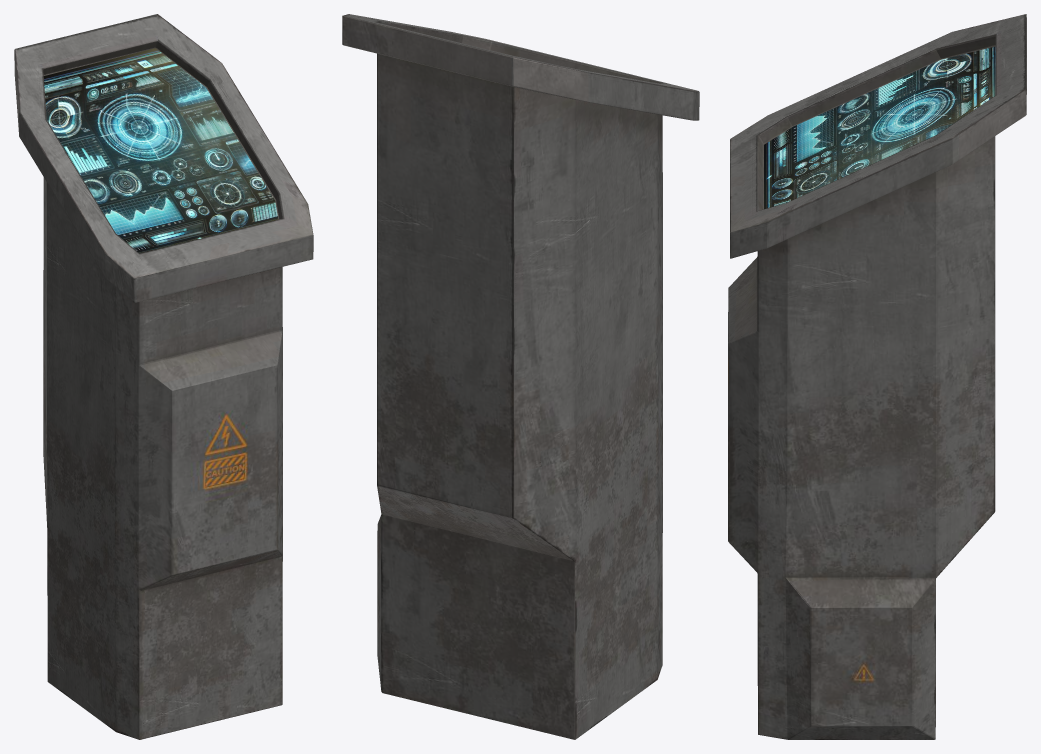
File: switch_console.glb
3 renders of one model, left to right at view 1: azimuth 30°, elevation 25°; view 2: azimuth 150°, elevation 25°; view 3: azimuth 270°, elevation 25°, orthographic. The views are drawn at different scales.
Visible parts, largest first — view 1: Sci fi monitor; view 2: Sci fi monitor; view 3: Sci fi monitor.
Part boxes in pixels (box(x1,y1,x2,y2)): Sci fi monitor: box(14, 14, 313, 739); Sci fi monitor: box(342, 14, 699, 739); Sci fi monitor: box(728, 14, 1026, 739).
Bounding box in the file's own units: 0.4246 × 1.2 × 0.5031.
2 materials, 2 textured.
